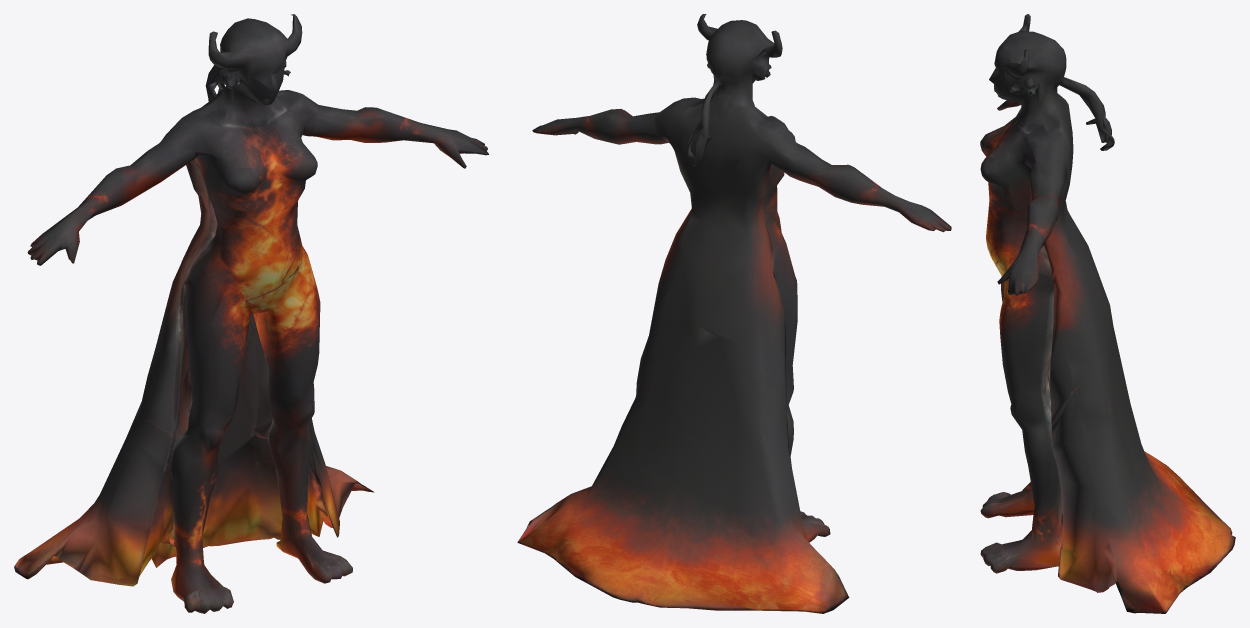
Rendered from elemental.glb.
3 views of the same model, side by side, from view 1: azimuth 30°, elevation 25°; view 2: azimuth 150°, elevation 25°; view 3: azimuth 270°, elevation 25° (orthographic). The views are drawn at different scales.
Bounding box in the file's own units: 1.71 × 2 × 0.9116.
1 material, 1 textured.
